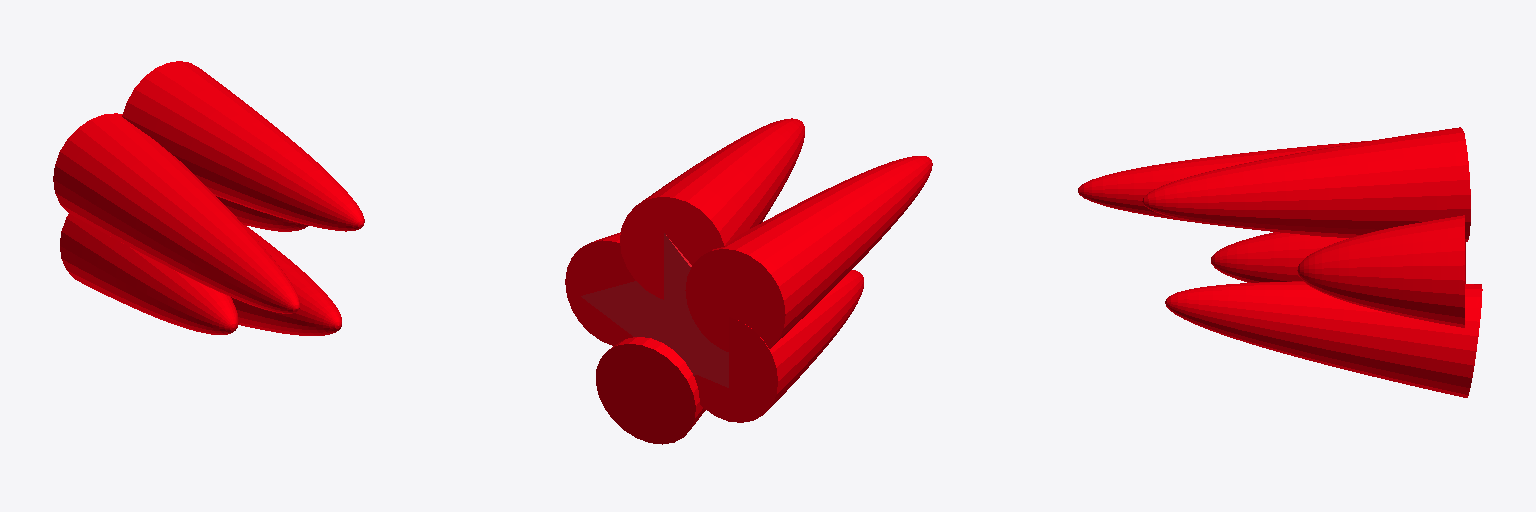
Rendered from tinker.obj.
3 views of the same model, side by side, from view 1: azimuth 30°, elevation 25°; view 2: azimuth 150°, elevation 25°; view 3: azimuth 270°, elevation 25° (orthographic).
Parts seen in each view (by area): view 1: obj_0; view 2: obj_0; view 3: obj_0.
Boxes of the visible parts, <box> form: obj_0: <box>53,61,364,335</box>; obj_0: <box>565,118,932,444</box>; obj_0: <box>1078,127,1482,397</box>.
Bounding box in the file's own units: 44 × 47.66 × 70.